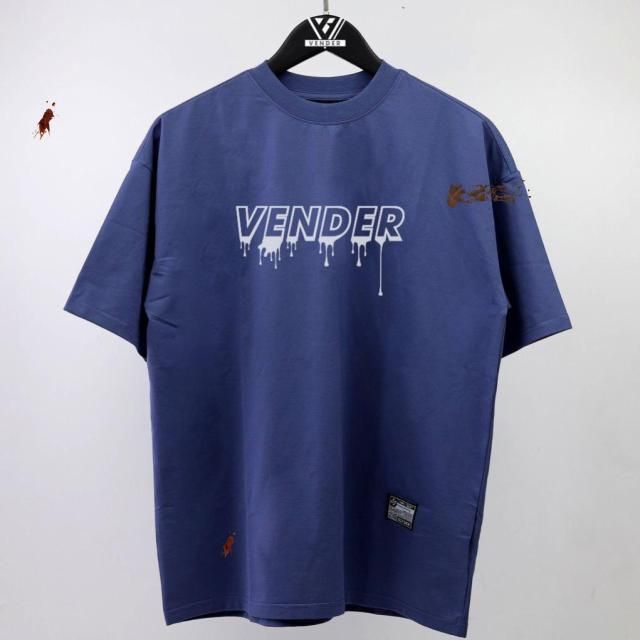stain: (444, 178, 533, 212), (217, 524, 243, 566)
